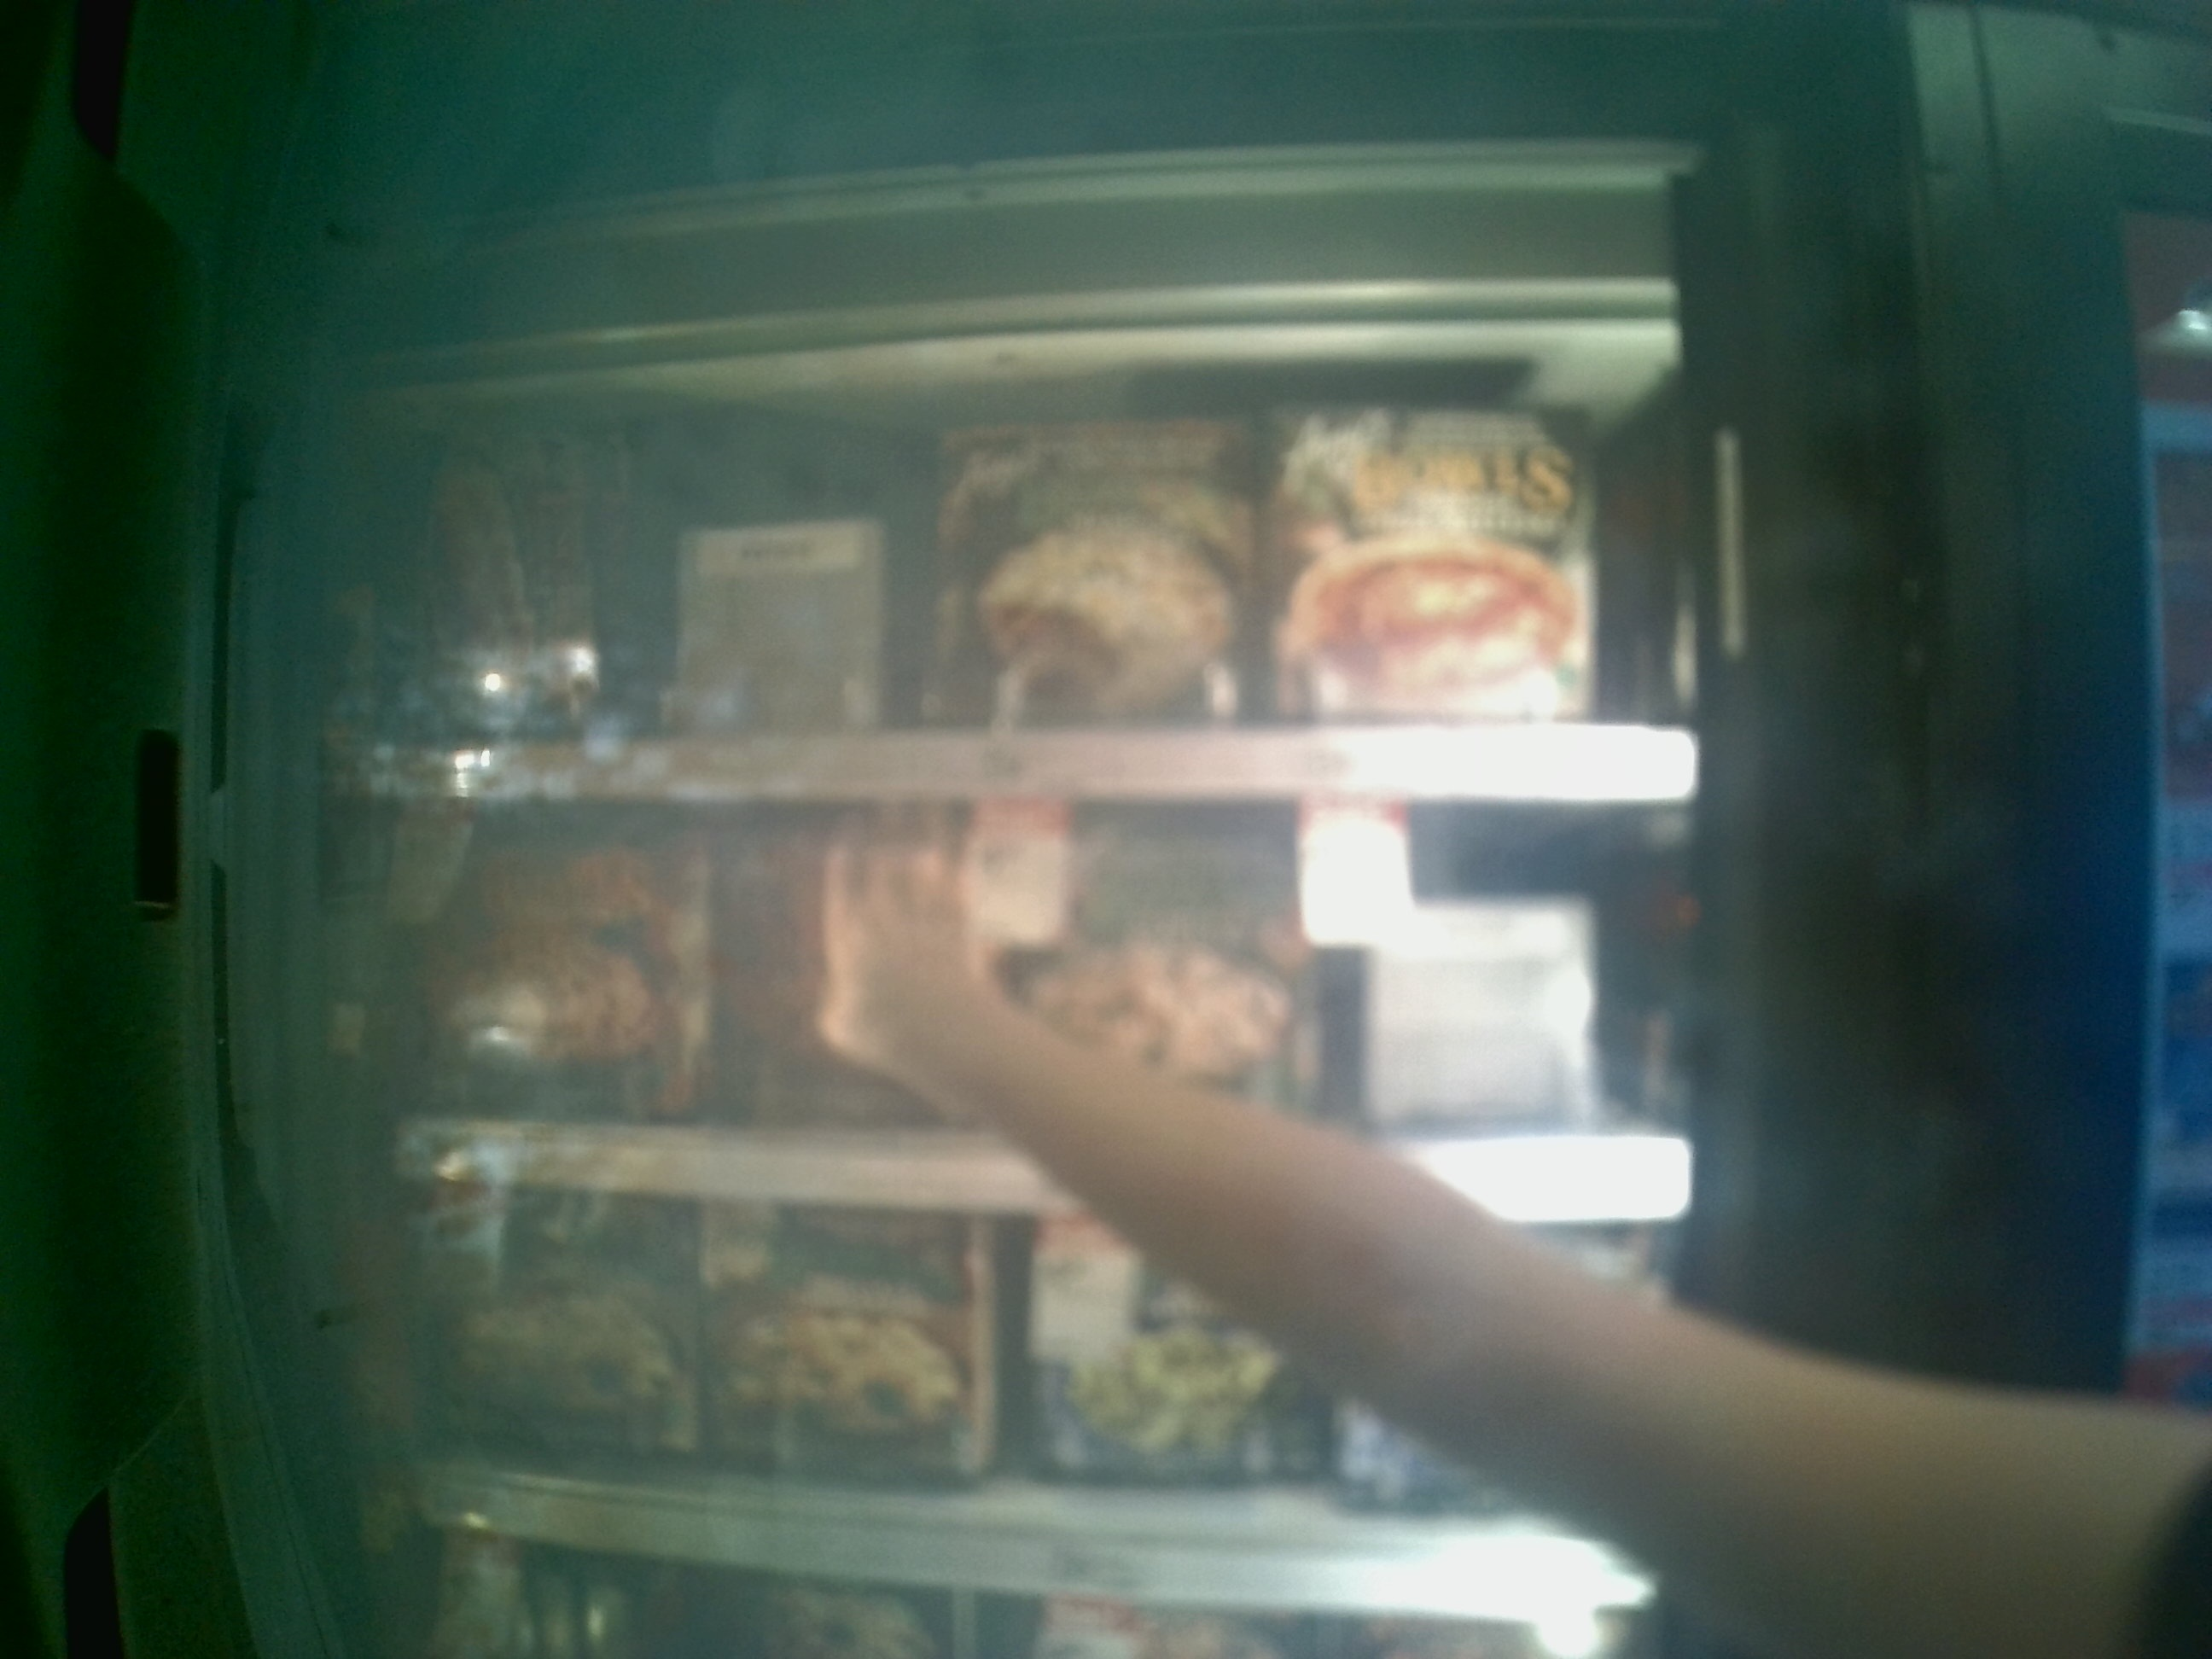frozen-food-shelf: (294, 809, 1702, 1229), (301, 387, 1696, 809)
